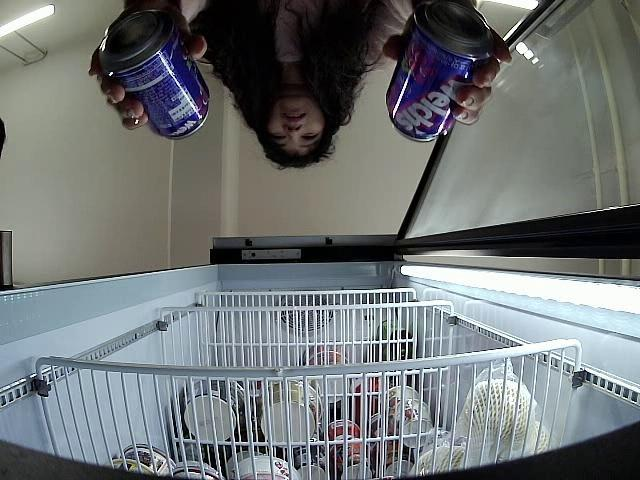14_welchsGrape: (386, 0, 488, 144), (102, 9, 210, 140)
